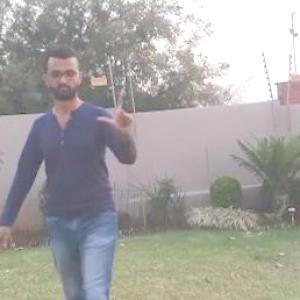land_hand: (93, 85, 136, 129)
